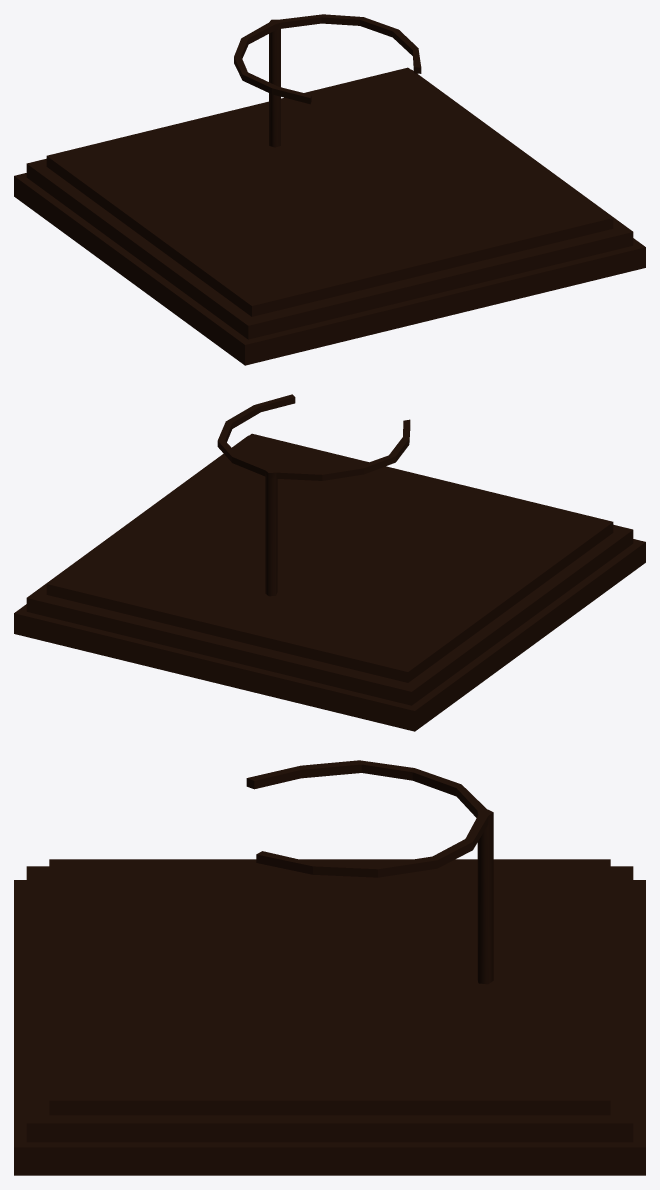
Rendered from Ballvitrine_Podest.FBX.
3 renders of one model, top to bottom at view 1: azimuth 30°, elevation 25°; view 2: azimuth 150°, elevation 25°; view 3: azimuth 270°, elevation 25°, orthographic. The views are drawn at different scales.
Visible parts, largest first — view 1: Cylinder001; view 2: Cylinder001; view 3: Cylinder001.
Boxes of the visible parts, box(x1,y1,x2,y2) form: Cylinder001: box(14, 14, 645, 365); Cylinder001: box(14, 394, 645, 731); Cylinder001: box(14, 760, 645, 1175).
Bounding box in the file's own units: 14.78 × 6.2 × 14.75.
